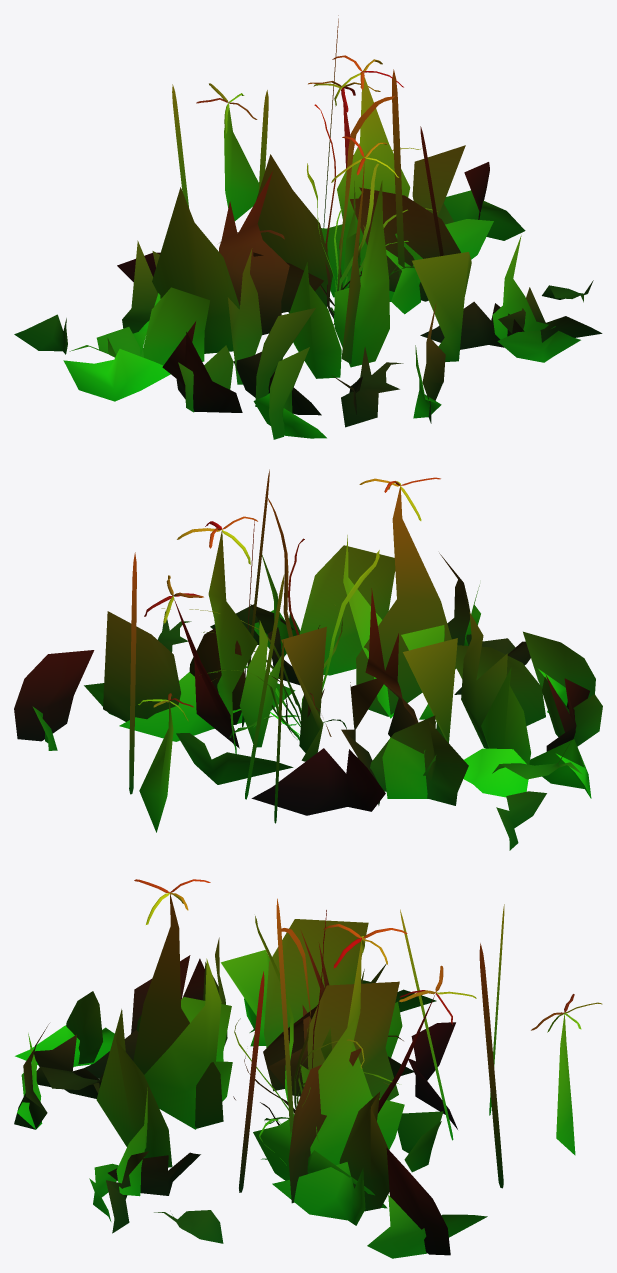
The model's file is SM_OW_GrassLawn_b_LOD0.fbx.
3 views of the same model, one above another, from view 1: azimuth 30°, elevation 25°; view 2: azimuth 150°, elevation 25°; view 3: azimuth 270°, elevation 25° (orthographic). The views are drawn at different scales.
Parts seen in each view (by area): view 1: SM_OW_GrassLawn_b_LOD0; view 2: SM_OW_GrassLawn_b_LOD0; view 3: SM_OW_GrassLawn_b_LOD0.
Part boxes in pixels (x1,y1,x2,y2): SM_OW_GrassLawn_b_LOD0: (14,15,602,439); SM_OW_GrassLawn_b_LOD0: (14,469,602,850); SM_OW_GrassLawn_b_LOD0: (14,879,602,1258).
Bounding box in the file's own units: 0.5533 × 0.2785 × 0.5254.
